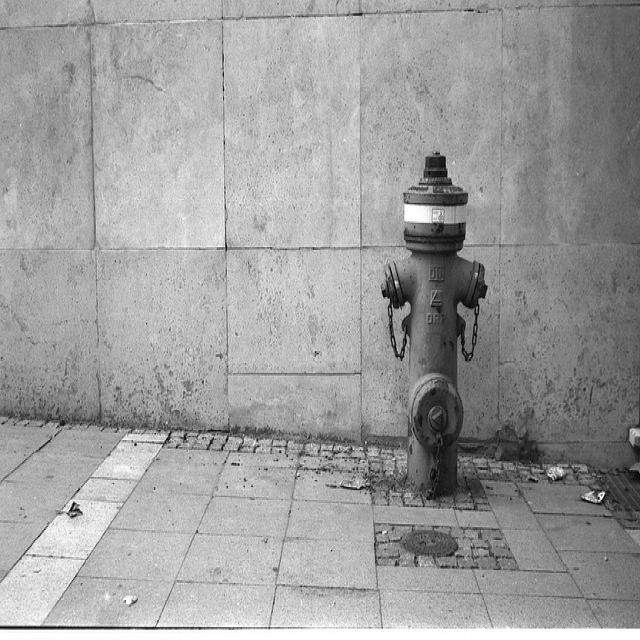fire_hydrant: (380, 150, 487, 496)
